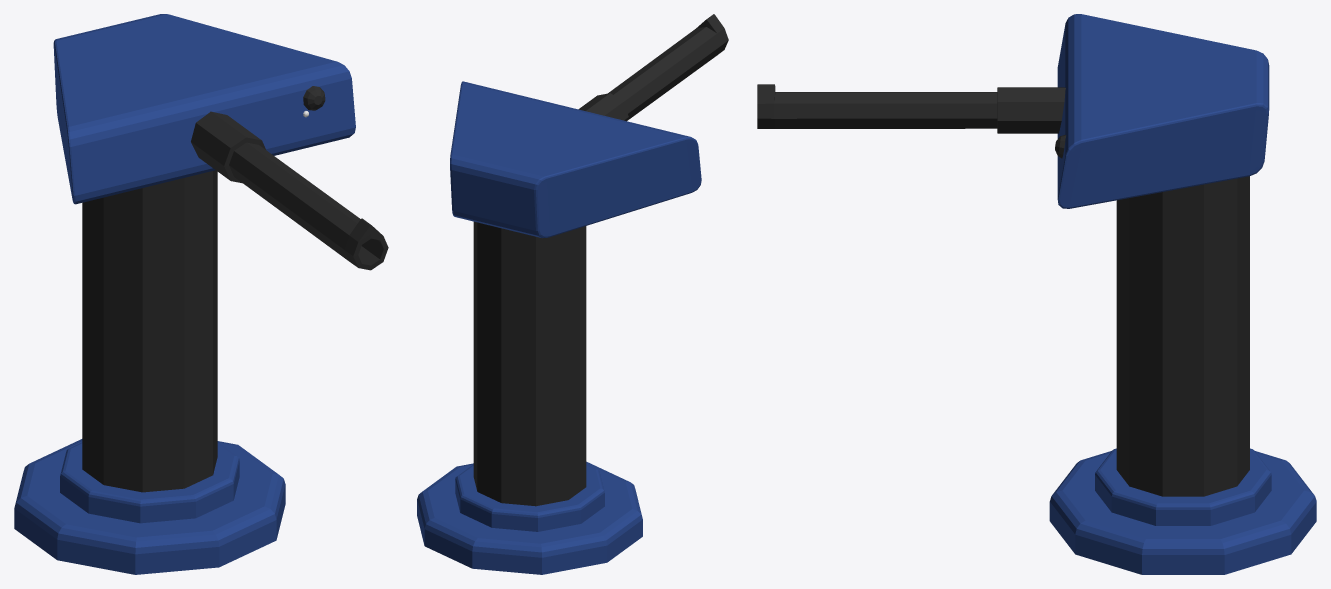
File: singleTurret.fbx
3 renders of one model, left to right at view 1: azimuth 30°, elevation 25°; view 2: azimuth 150°, elevation 25°; view 3: azimuth 270°, elevation 25°, orthographic. The views are drawn at different scales.
Visible parts, largest first — view 1: FirstTurret; view 2: FirstTurret; view 3: FirstTurret.
Boxes of the visible parts, x1=… form: FirstTurret: x1=14, y1=14, x2=388, y2=574; FirstTurret: x1=417, y1=14, x2=728, y2=574; FirstTurret: x1=757, y1=14, x2=1316, y2=574.
Bounding box in the file's own units: 44.16 × 68.96 × 78.66.
